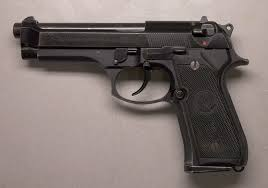gun: (12, 14, 254, 176)
